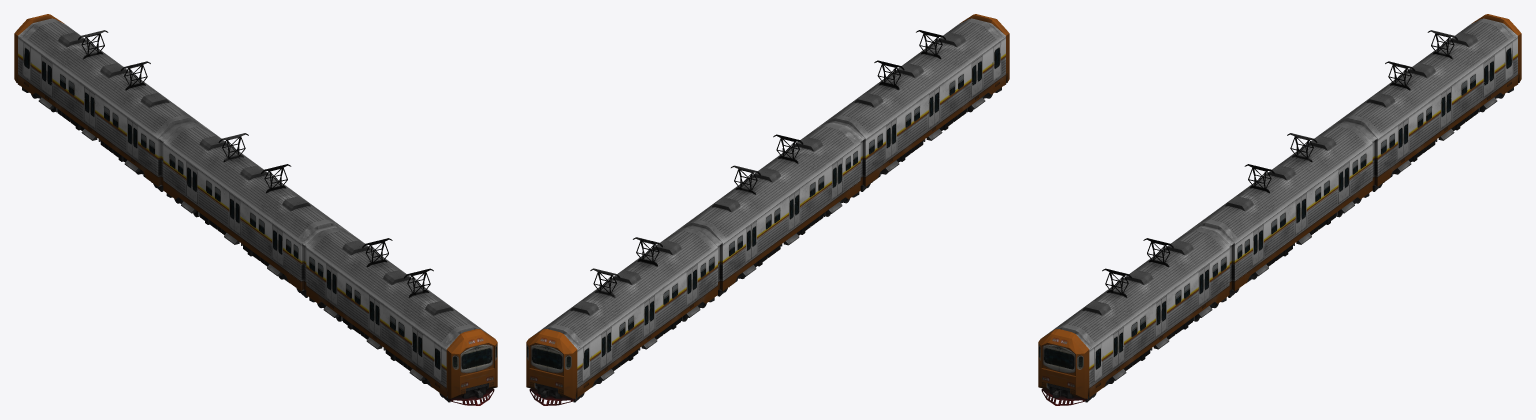
Rendered from electrictrain.obj.
The picture shows the model from 3 angles, left to right: view 1: azimuth 30°, elevation 25°; view 2: azimuth 150°, elevation 25°; view 3: azimuth 330°, elevation 25°; orthographic projection.
Parts seen in each view (by area): view 1: ElectricTrain; view 2: ElectricTrain; view 3: ElectricTrain.
Boxes of the visible parts, x1,y1,x2,y2 form: ElectricTrain: [14, 14, 497, 405]; ElectricTrain: [526, 14, 1009, 405]; ElectricTrain: [1038, 14, 1521, 405].
Size of the model in its own units: 4.78 by 7.87 by 70.56.
Materials: 1 (1 with a texture image).
